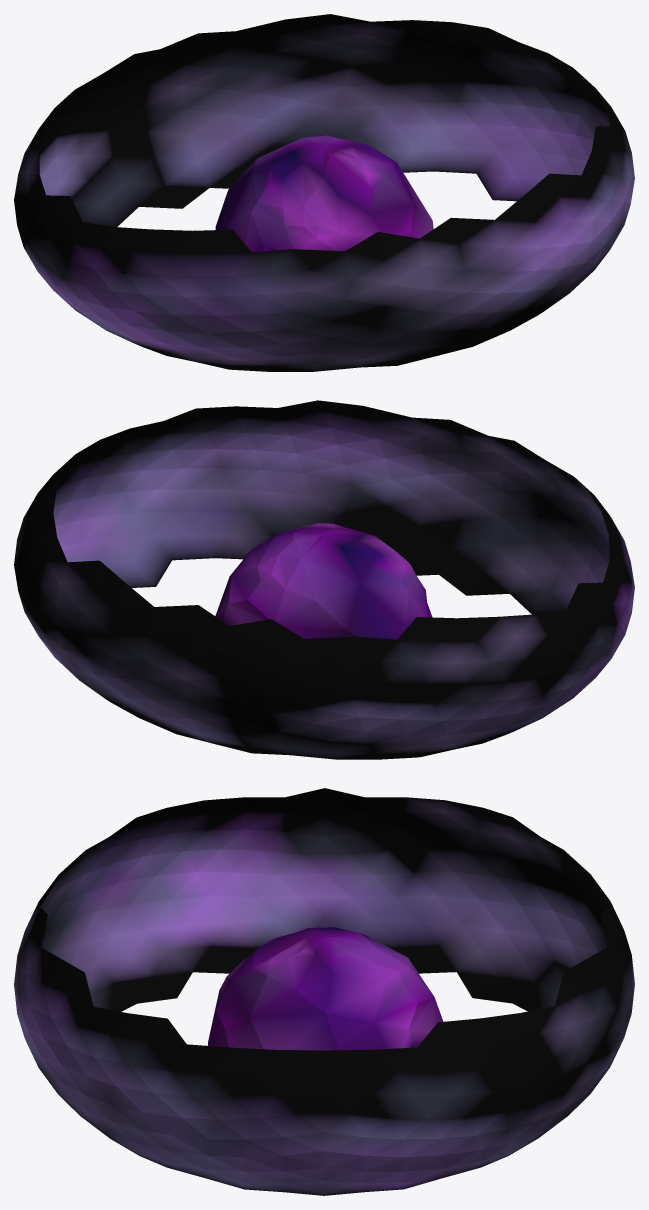
3 views of the same model, one above another, from view 1: azimuth 30°, elevation 25°; view 2: azimuth 150°, elevation 25°; view 3: azimuth 270°, elevation 25° (orthographic). The views are drawn at different scales.
Parts seen in each view (by area): view 1: part1, part6; view 2: part1, part6; view 3: part1, part6.
Boxes of the visible parts, <box> form: part1: <box>14,14,634,371</box>; part6: <box>215,135,433,252</box>; part1: <box>14,400,634,759</box>; part6: <box>215,523,432,639</box>; part1: <box>14,788,634,1195</box>; part6: <box>207,927,443,1050</box>.
Size of the model in its own units: 37.1 by 14.82 by 32.94.
